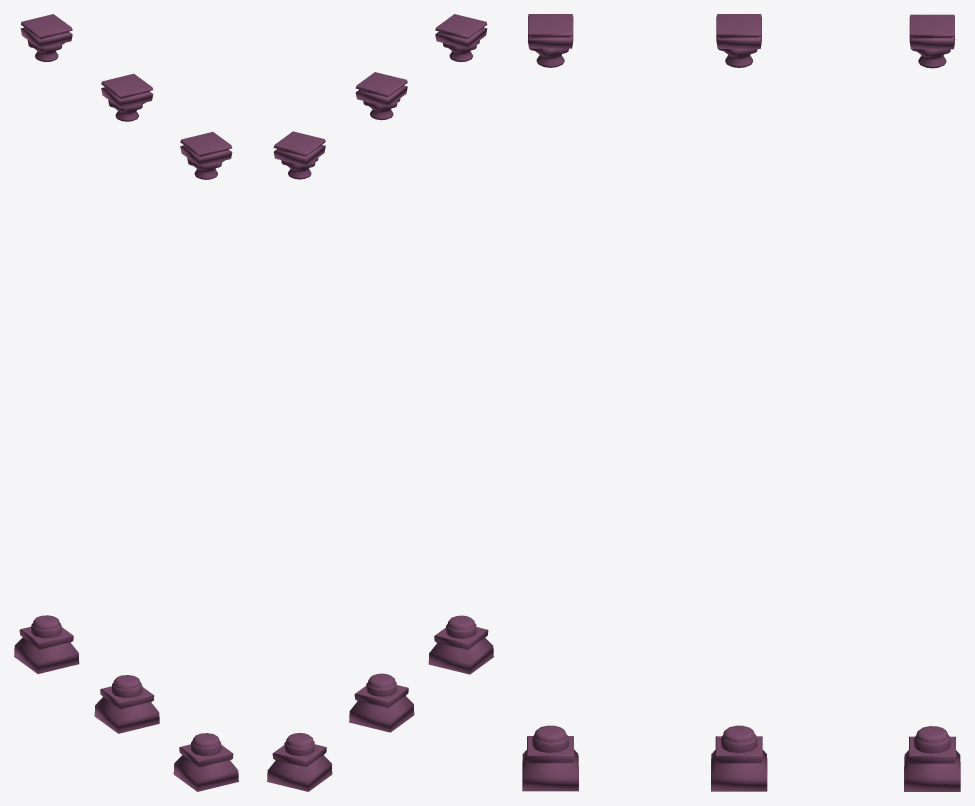
File: Wall_Arc_08B_Lod0.fbx
3 views of the same model, side by side, from view 1: azimuth 30°, elevation 25°; view 2: azimuth 150°, elevation 25°; view 3: azimuth 270°, elevation 25° (orthographic). The views are drawn at different scales.
Parts seen in each view (by area): view 1: Wall_Arc_08B_Lod0; view 2: Wall_Arc_08B_Lod0; view 3: Wall_Arc_08B_Lod0.
Part boxes in pixels (x1,y1,x2,y2): Wall_Arc_08B_Lod0: (14, 14, 238, 791); Wall_Arc_08B_Lod0: (267, 14, 493, 791); Wall_Arc_08B_Lod0: (522, 14, 960, 791).
Size of the model in its own units: 62.32 by 894 by 470.
